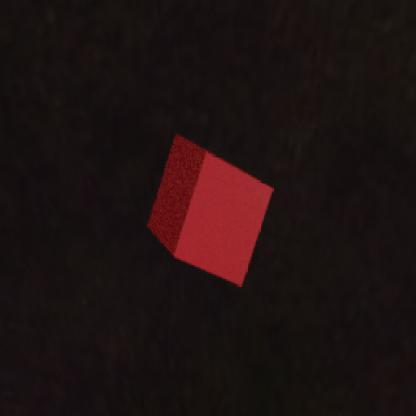cube: (147, 132, 273, 286)
